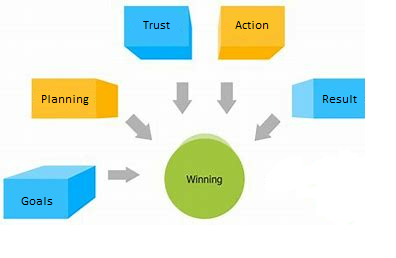arrow: (124, 113, 154, 142), (254, 113, 281, 142), (171, 81, 193, 115), (216, 81, 238, 114), (107, 166, 141, 184)
connection: (162, 133, 245, 220)
process: (2, 163, 97, 220), (122, 4, 194, 61), (216, 4, 286, 61), (30, 77, 120, 119), (290, 76, 366, 120)
text: (40, 94, 91, 107), (184, 173, 223, 186), (233, 19, 270, 32), (321, 93, 358, 105), (20, 195, 53, 207), (141, 18, 170, 30)
